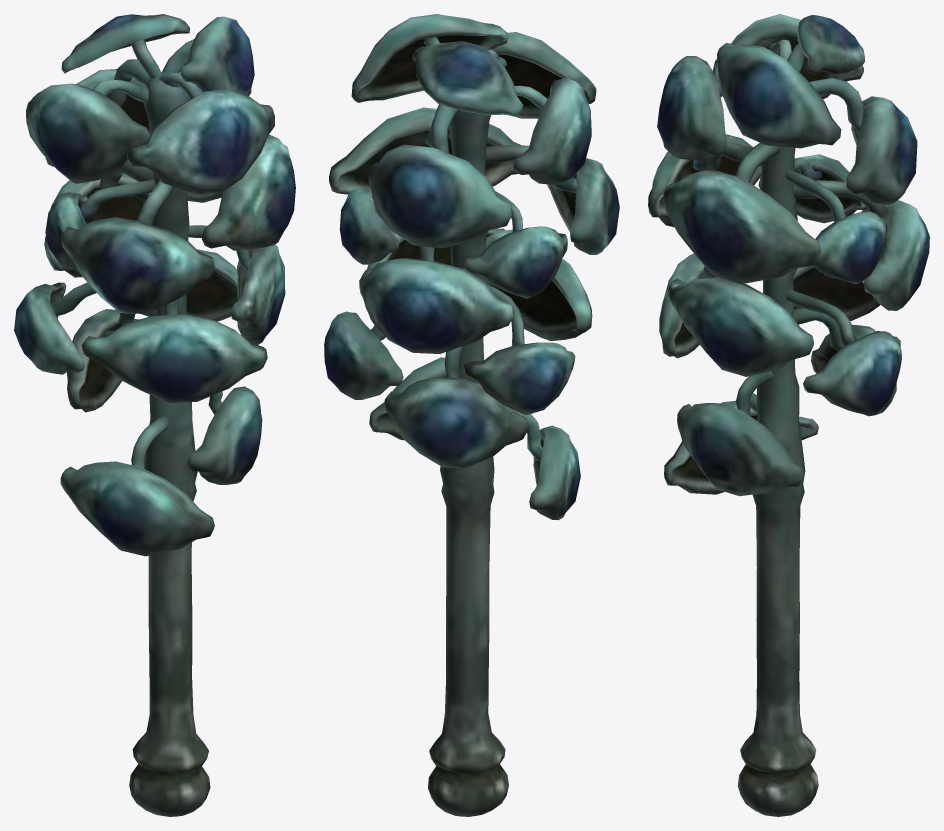
Rendered from weapon-all-is-known.glb.
3 views of the same model, side by side, from view 1: azimuth 30°, elevation 25°; view 2: azimuth 150°, elevation 25°; view 3: azimuth 270°, elevation 25° (orthographic).
Visible parts, largest first — view 1: wandQ_MDL_q; view 2: wandQ_MDL_q; view 3: wandQ_MDL_q.
Boxes of the visible parts, x1,y1,x2,y2 form: wandQ_MDL_q: (14, 14, 295, 816); wandQ_MDL_q: (324, 14, 619, 816); wandQ_MDL_q: (648, 14, 929, 816).
Size of the model in its own units: 0.3684 by 1.12 by 0.3658.
1 material, 1 textured.
